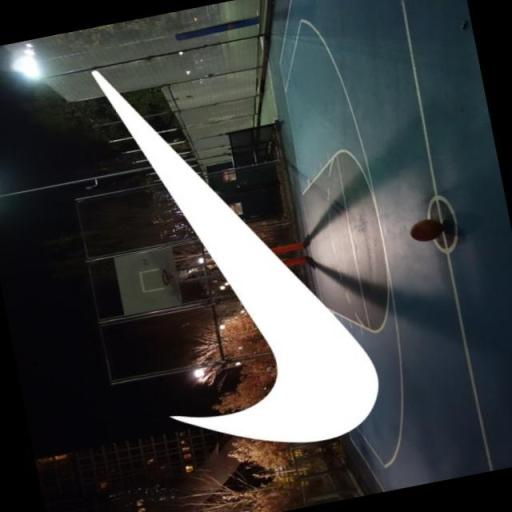Nike: (81, 20, 397, 474)
